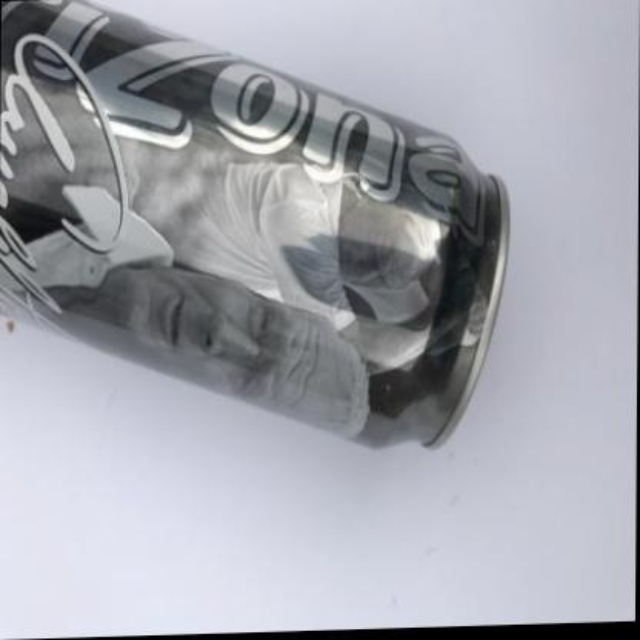trash: (0, 0, 508, 445)
